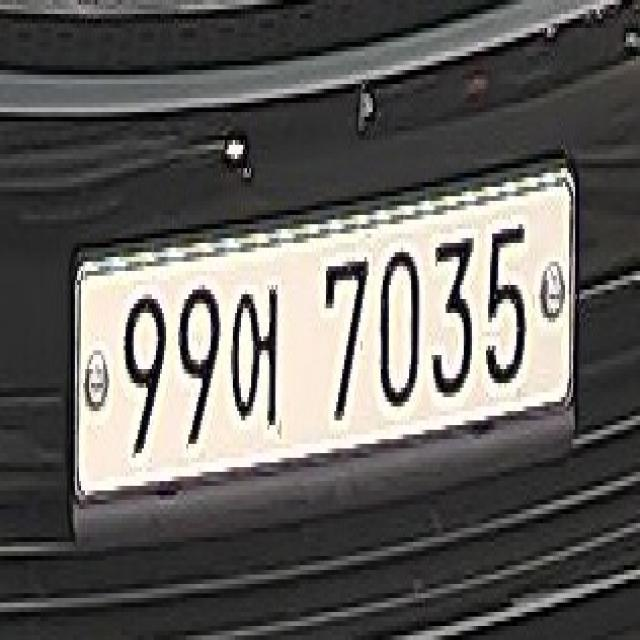0: (377, 246, 422, 414)
3: (426, 232, 478, 410)
5: (482, 223, 532, 399)
7: (318, 258, 372, 428)
9: (175, 282, 224, 459), (120, 291, 168, 461)
eo: (229, 280, 286, 444)
license_plate: (72, 161, 577, 512)
